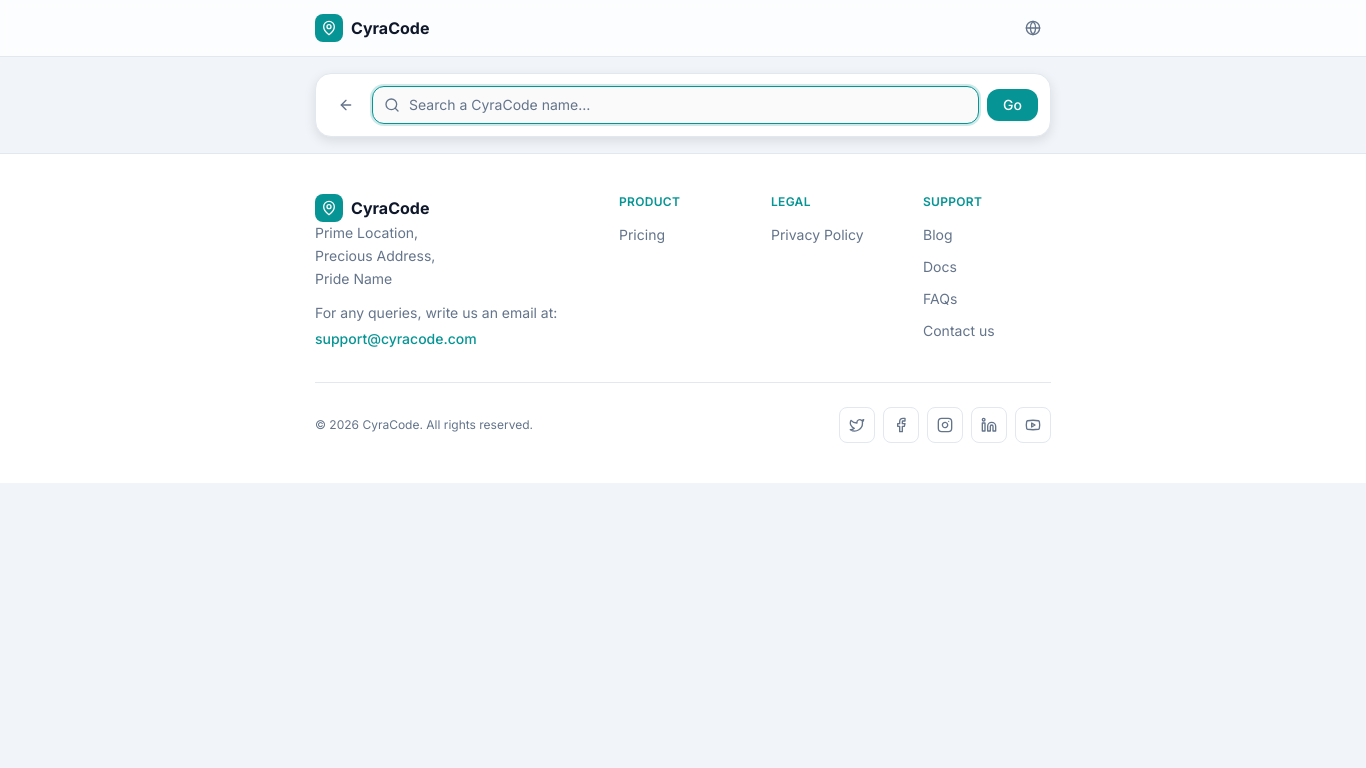
Test: SearchPage — not found / fuzzy › shows fuzzy suggestions when not found
Type "TestMiss" into the field with placeholder "Search a CyraCode name…". click: (676, 105)
box: [372, 86, 979, 124]
Then press Enter
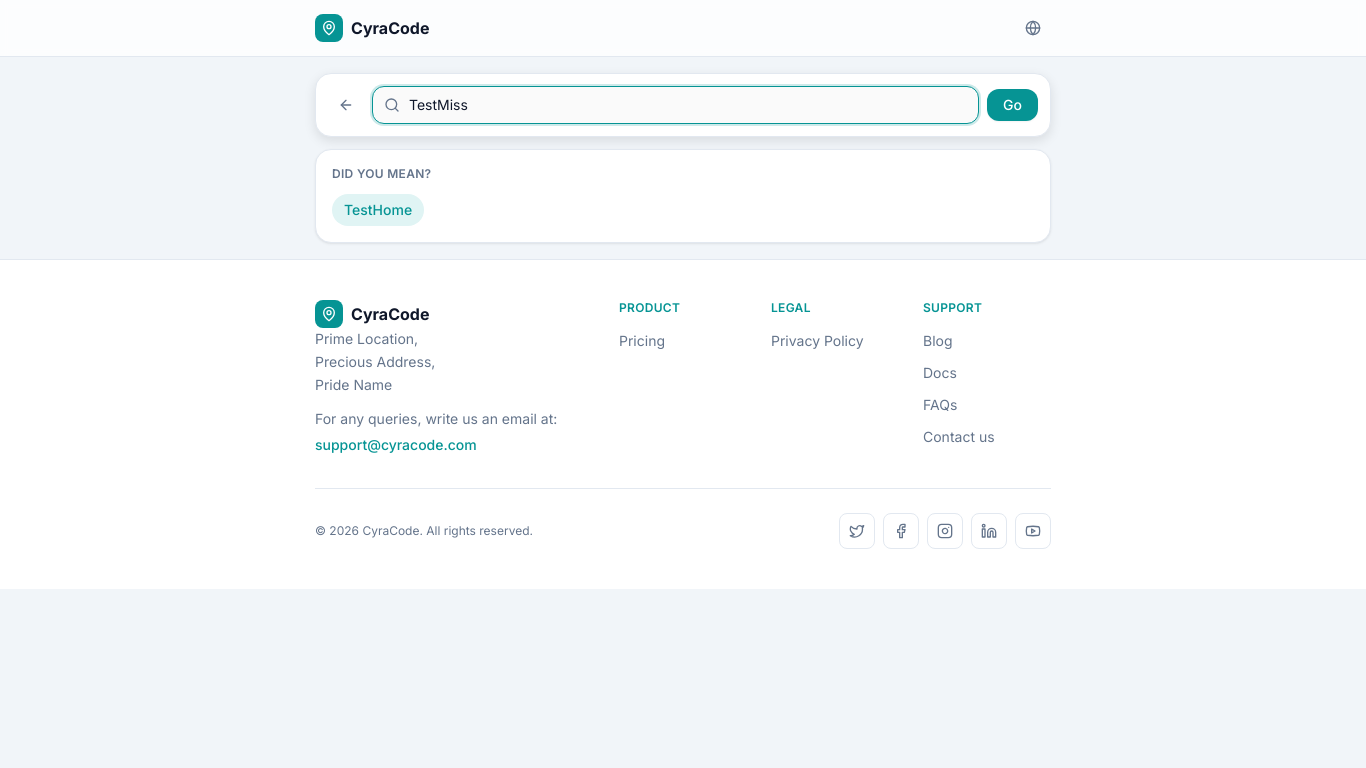
Result: the text "Did you mean?" is shown at [332, 166, 431, 181]
Result: the button "TestHome" is shown at [332, 194, 424, 226]
